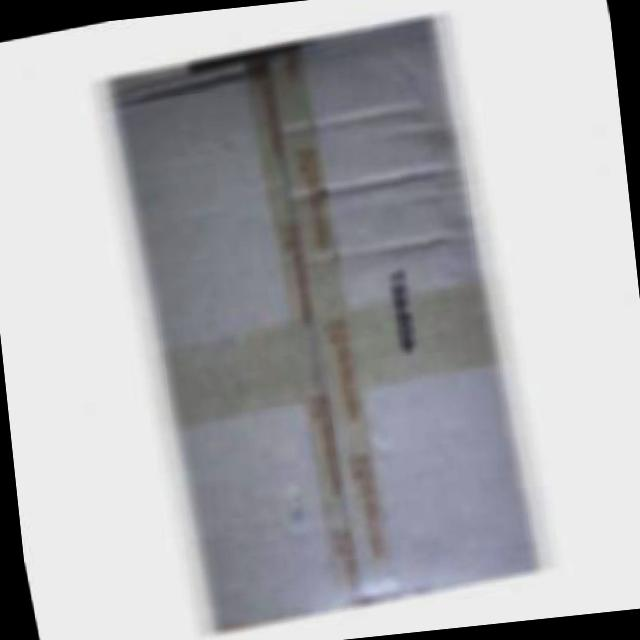box: (111, 16, 544, 638)
